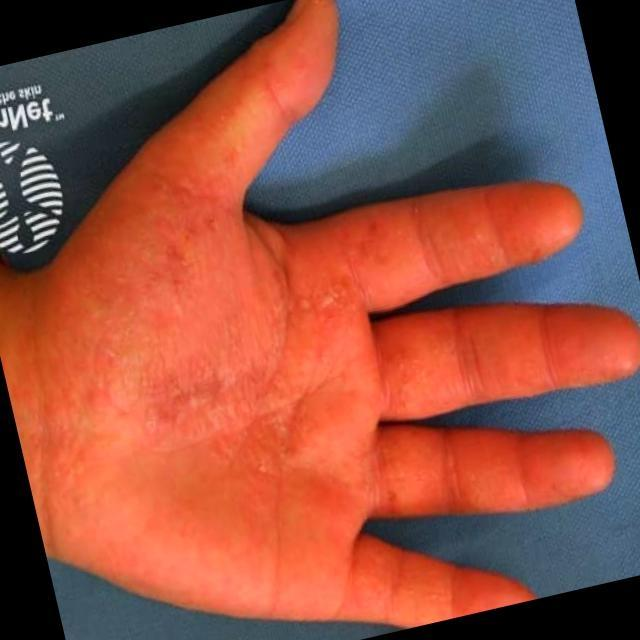Eczema: (112, 157, 348, 504)
